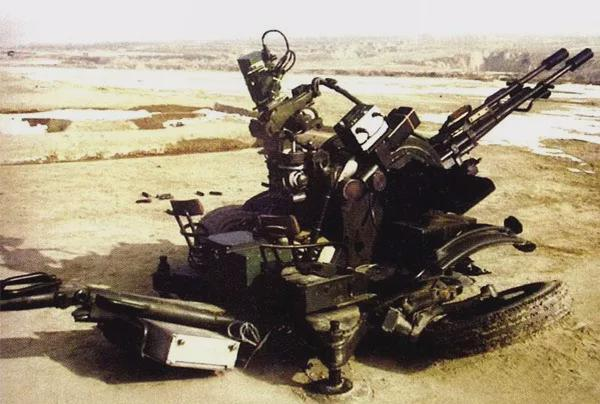MIL_SPG: (154, 33, 593, 393)
